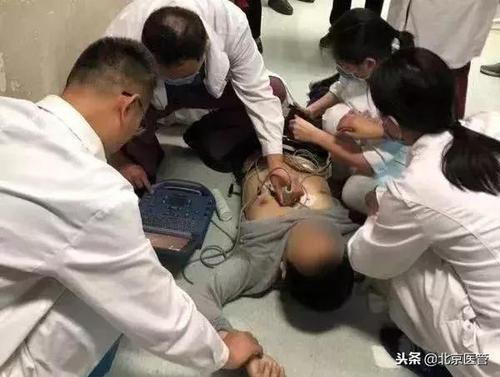fall: (199, 62, 355, 357)
